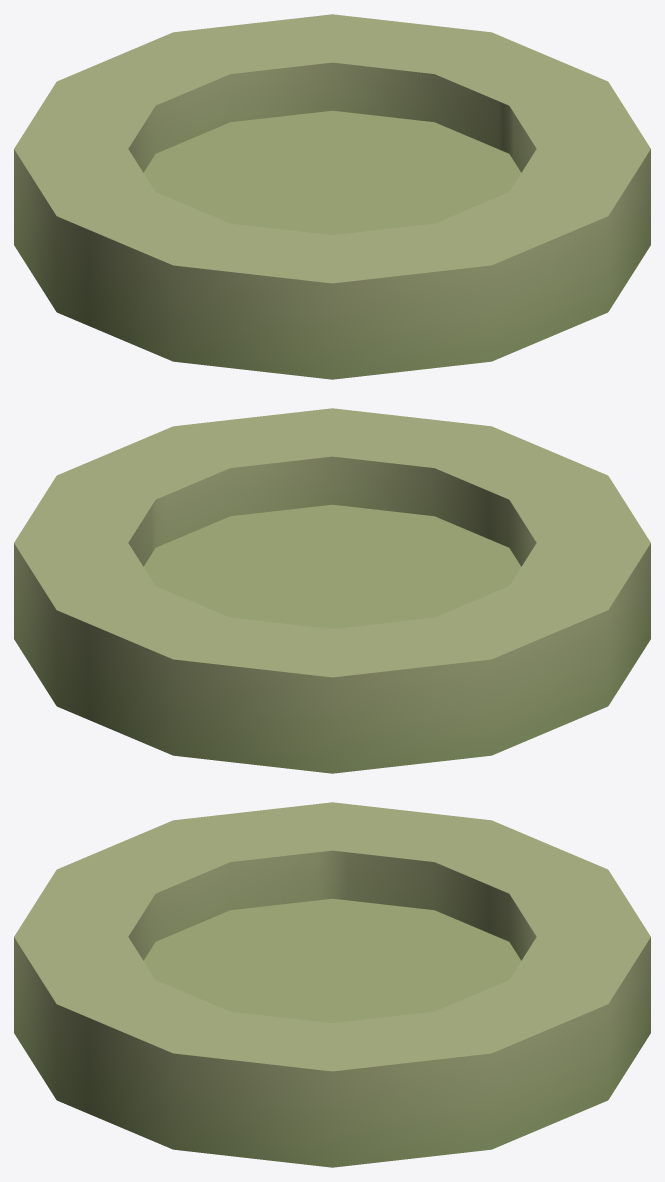
File: organic-lilypad-closed.glb
3 renders of one model, top to bottom at view 1: azimuth 30°, elevation 25°; view 2: azimuth 150°, elevation 25°; view 3: azimuth 270°, elevation 25°, orthographic.
Parts seen in each view (by area): view 1: organic-lilypad-closed; view 2: organic-lilypad-closed; view 3: organic-lilypad-closed.
Part boxes in pixels (x1,y1,x2,y2): organic-lilypad-closed: (14,14,650,379); organic-lilypad-closed: (14,408,650,773); organic-lilypad-closed: (14,802,650,1167).
Size of the model in its own units: 0.1901 by 0.0317 by 0.1901.
